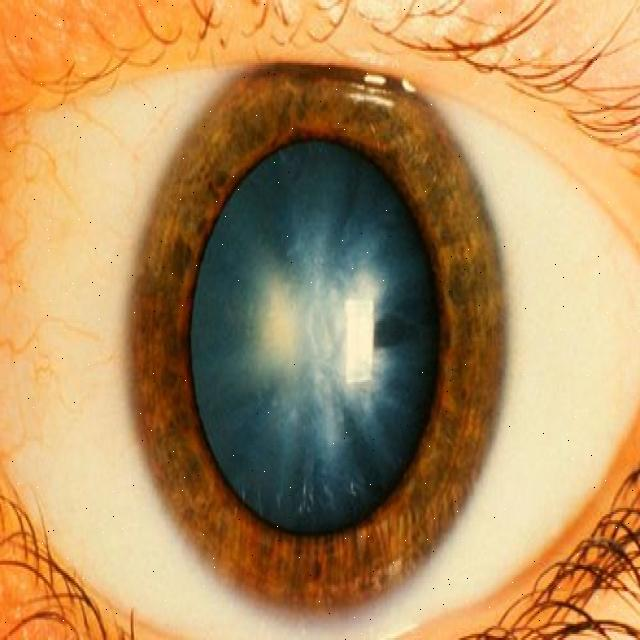Cataract: (121, 46, 512, 628)
